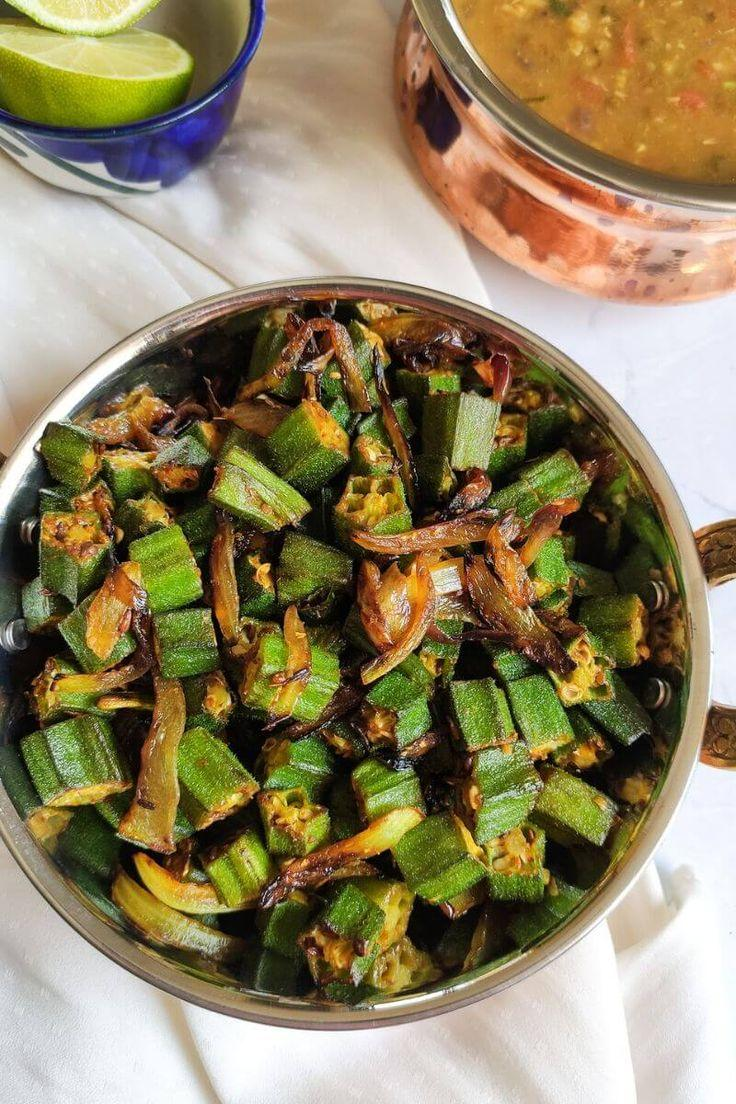bhindi: (35, 417, 641, 921)
